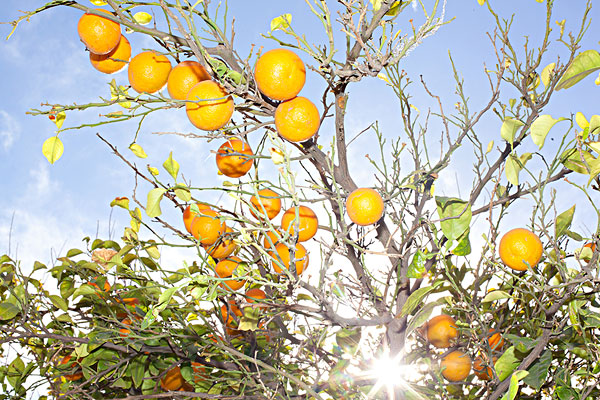orange: (255, 48, 306, 100), (185, 78, 234, 130), (78, 9, 124, 56), (126, 47, 172, 93), (274, 98, 321, 143), (88, 26, 131, 74), (167, 60, 210, 104), (343, 185, 387, 227), (499, 226, 543, 268), (269, 239, 309, 278), (217, 137, 256, 176), (282, 205, 319, 243), (438, 346, 473, 382), (182, 199, 216, 232), (214, 257, 248, 290), (423, 314, 458, 346), (191, 213, 224, 246), (249, 189, 282, 222)
